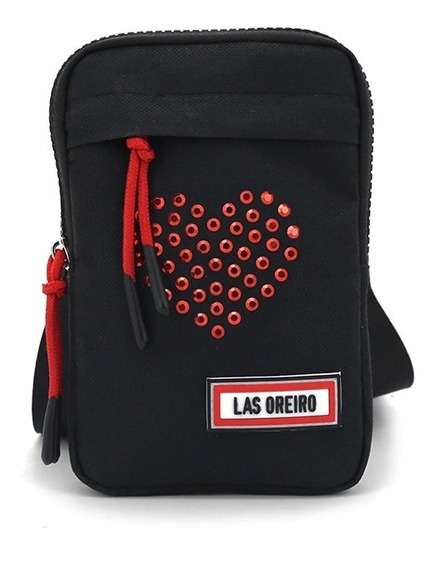cartera: (27, 24, 414, 496)
